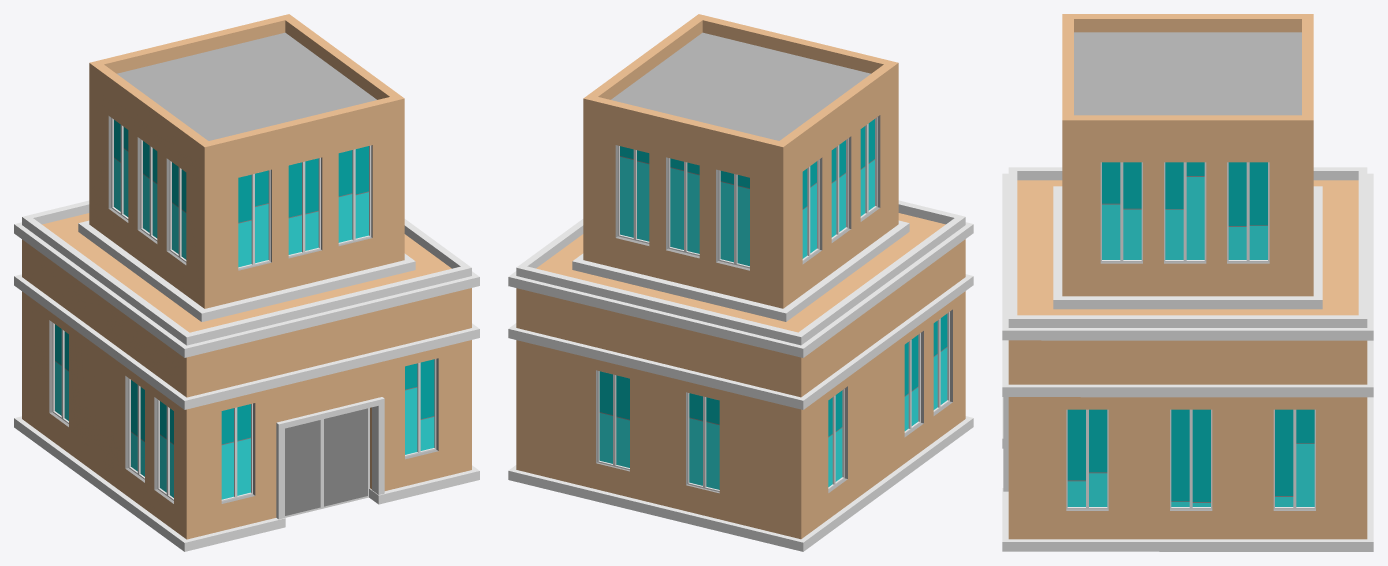
File: SM_House_21_01.FBX
3 views of the same model, side by side, from view 1: azimuth 30°, elevation 25°; view 2: azimuth 150°, elevation 25°; view 3: azimuth 270°, elevation 25° (orthographic). The views are drawn at different scales.
Parts seen in each view (by area): view 1: SM_House_21_01; view 2: SM_House_21_01; view 3: SM_House_21_01.
Part boxes in pixels (box(x1,y1,x2,y2)): SM_House_21_01: box(14, 14, 479, 551); SM_House_21_01: box(508, 14, 973, 551); SM_House_21_01: box(1002, 14, 1373, 551).
Size of the model in its own units: 6.21 by 7.5 by 6.21.
1 material, 1 textured.
